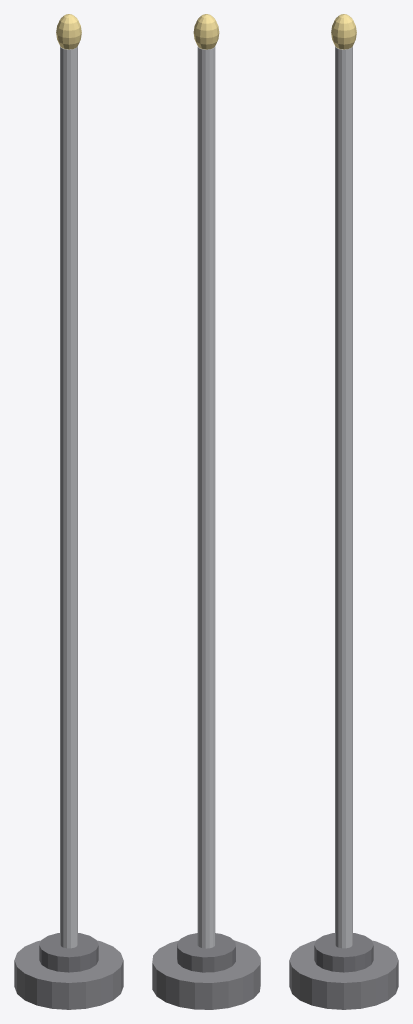
Rendered from flagpole.glb.
3 renders of one model, left to right at view 1: azimuth 90°, elevation 25°; view 2: azimuth 150°, elevation 25°; view 3: azimuth 270°, elevation 25°, orthographic.
Visible parts, largest first — view 1: Pole, Base_Plinth, Base_Foot, Finial; view 2: Pole, Base_Plinth, Base_Foot, Finial; view 3: Pole, Base_Plinth, Base_Foot, Finial.
Part boxes in pixels (left/top/right/bottom): Pole: left=60, top=46, right=77, bottom=948; Base_Plinth: left=14, top=940, right=123, bottom=1009; Base_Foot: left=39, top=933, right=98, bottom=972; Finial: left=56, top=14, right=81, bottom=49; Pole: left=197, top=46, right=215, bottom=948; Base_Plinth: left=152, top=940, right=260, bottom=1009; Base_Foot: left=177, top=933, right=235, bottom=972; Finial: left=193, top=14, right=219, bottom=49; Pole: left=335, top=46, right=352, bottom=948; Base_Plinth: left=289, top=940, right=398, bottom=1009; Base_Foot: left=314, top=933, right=373, bottom=972; Finial: left=331, top=14, right=356, bottom=49.
Size of the model in its own units: 1.1 by 10.82 by 1.1.
